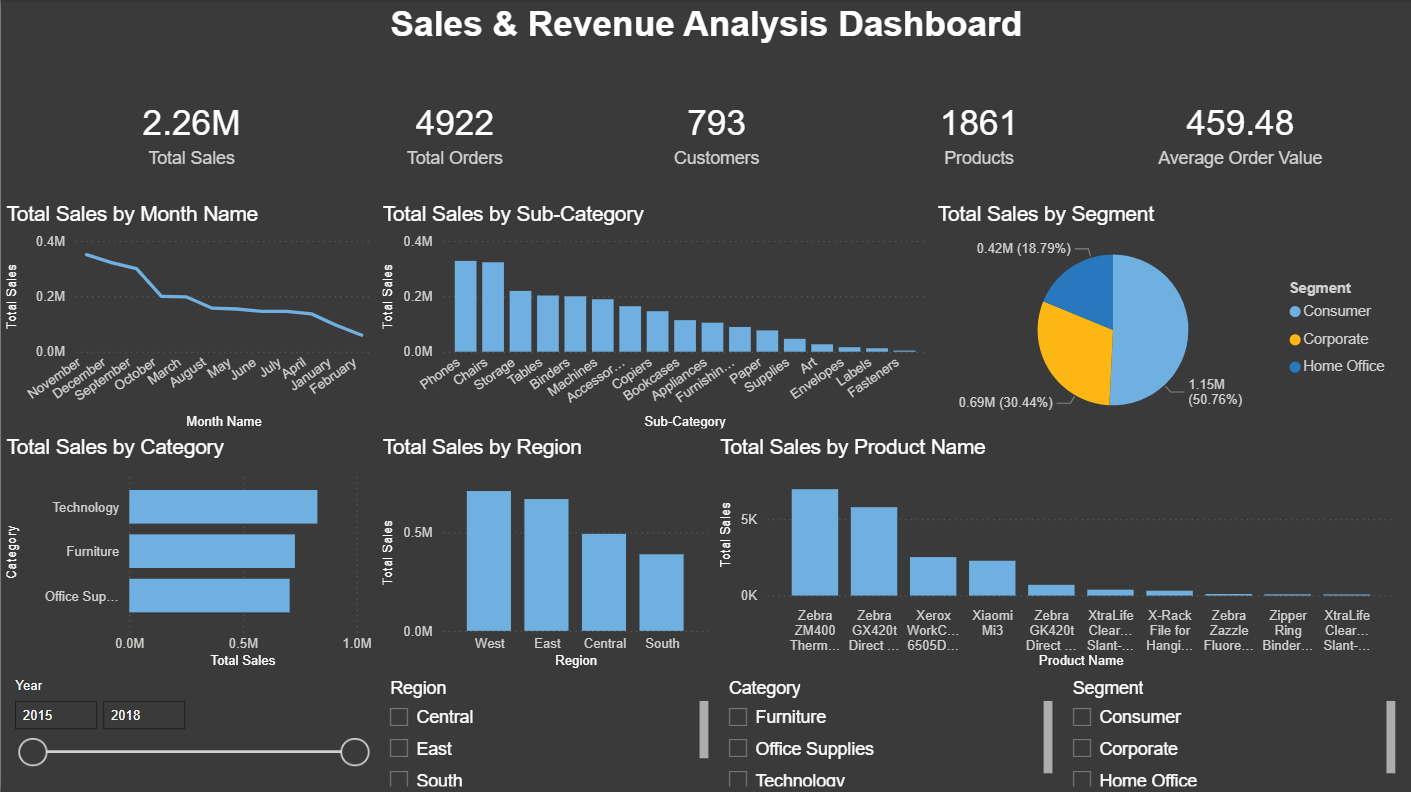

Layout of this report page (visuals, bound fields, positions):
{"tool":"powerbi","page":{"name":"Page 1","canvas":[1280,720],"ordinal":0},"visuals":[{"type":"card","fields":{"Values":["train.Total Sales"]},"box":[54.9,82.1,237.4,78.2],"z":0},{"type":"card","fields":{"Values":["train.Total Orders"]},"box":[292.3,82.1,238.8,78.2],"z":1},{"type":"card","fields":{"Values":["train.Customers"]},"box":[531,82.1,237.4,78.2],"z":2},{"type":"card","fields":{"Values":["train.Products"]},"box":[768.4,82.1,237.4,78.2],"z":3},{"type":"card","fields":{"Values":["train.Average Order Value"]},"box":[1005.8,82.1,237.4,78.2],"z":4},{"type":"textbox","box":[0,-0.3,1280.3,57.6],"z":5},{"type":"lineChart","fields":{"Category":["train.Month Name"],"Y":["train.Total Sales"]},"box":[0,185.2,341.7,209.9],"z":6},{"type":"barChart","fields":{"Y":["train.Total Sales"],"Category":["train.Category"]},"box":[0,395.3,341.9,216.3],"z":7},{"type":"columnChart","fields":{"Category":["train.Sub-Category"],"Y":["train.Total Sales"]},"box":[341.7,185.2,503.6,209.9],"z":8},{"type":"columnChart","fields":{"Category":["train.Region"],"Y":["train.Total Sales"]},"box":[341.9,395.3,305.8,216.3],"z":9},{"type":"pieChart","fields":{"Category":["train.Segment"],"Y":["train.Total Sales"]},"box":[845.4,184.9,424.4,210.5],"z":10},{"type":"columnChart","fields":{"Category":["train.Product Name"],"Y":["train.Total Sales"]},"box":[647.7,395.3,622.1,216.3],"z":11},{"type":"slicer","fields":{"Values":["train.Year"]},"box":[0,611.6,341.9,108.1],"z":12},{"type":"slicer","fields":{"Values":["train.Region"]},"box":[340.7,611.6,307,108.1],"z":13},{"type":"slicer","fields":{"Values":["train.Category"]},"box":[647.7,611.6,311.6,108.1],"z":14},{"type":"slicer","fields":{"Values":["train.Segment"]},"box":[959.3,611.6,310.5,108.1],"z":15}]}

Visuals, with their boxes in screenshot pixels (x1, y1, x2, y2), scaled from the page's 1280x720 canvas onto the 1411x792 screenshot:
card - train.Total Sales: x1=61 y1=90 x2=322 y2=176
card - train.Total Orders: x1=322 y1=90 x2=585 y2=176
card - train.Customers: x1=585 y1=90 x2=847 y2=176
card - train.Products: x1=847 y1=90 x2=1109 y2=176
card - train.Average Order Value: x1=1109 y1=90 x2=1370 y2=176
textbox: x1=0 y1=0 x2=1410 y2=63
lineChart - train.Month Name x train.Total Sales: x1=0 y1=204 x2=377 y2=435
barChart - train.Total Sales x train.Category: x1=0 y1=435 x2=377 y2=673
columnChart - train.Sub-Category x train.Total Sales: x1=377 y1=204 x2=932 y2=435
columnChart - train.Region x train.Total Sales: x1=377 y1=435 x2=714 y2=673
pieChart - train.Segment x train.Total Sales: x1=932 y1=203 x2=1400 y2=435
columnChart - train.Product Name x train.Total Sales: x1=714 y1=435 x2=1400 y2=673
slicer - train.Year: x1=0 y1=673 x2=377 y2=791
slicer - train.Region: x1=376 y1=673 x2=714 y2=791
slicer - train.Category: x1=714 y1=673 x2=1057 y2=791
slicer - train.Segment: x1=1057 y1=673 x2=1400 y2=791
